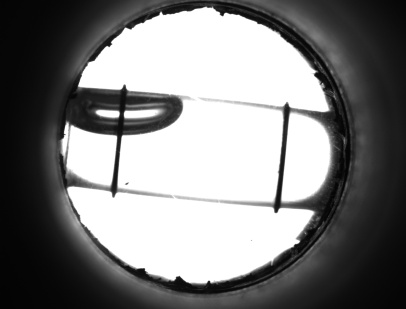line: (271, 125, 294, 193), (106, 143, 126, 180)
